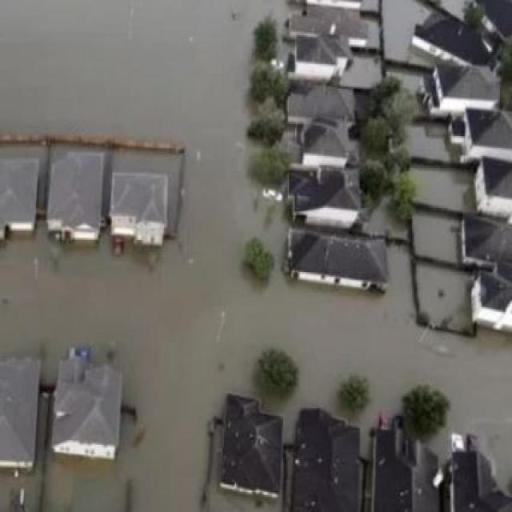flood: (0, 0, 512, 512), (114, 149, 184, 236), (0, 476, 127, 512), (416, 263, 473, 334), (410, 165, 476, 211), (384, 0, 432, 61), (412, 212, 460, 263), (407, 118, 461, 162), (363, 197, 409, 240), (339, 56, 382, 88), (387, 68, 424, 93), (52, 144, 105, 160), (0, 146, 45, 158)
house: (287, 405, 367, 512), (52, 348, 122, 468), (218, 392, 286, 502), (288, 225, 388, 293), (290, 2, 376, 81), (407, 6, 504, 69), (443, 429, 512, 512), (51, 150, 104, 244), (1, 357, 43, 473), (369, 417, 420, 512), (113, 170, 167, 248), (423, 62, 499, 113), (1, 144, 41, 240), (454, 106, 512, 158), (290, 121, 352, 168), (459, 214, 512, 266), (470, 270, 512, 328), (473, 158, 512, 214)
